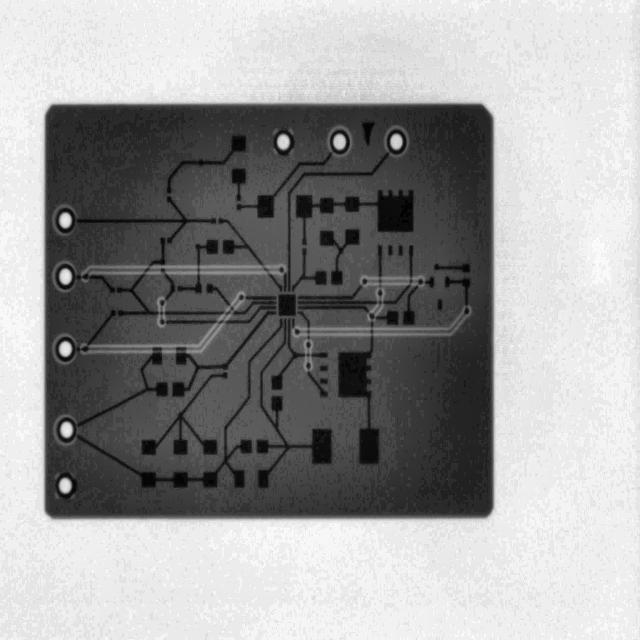Both: (272, 128, 297, 155), (53, 336, 76, 363), (54, 264, 76, 290), (387, 129, 407, 154), (56, 418, 76, 443), (56, 473, 75, 498), (56, 208, 75, 232), (332, 132, 348, 153)
L1: (75, 294, 350, 551), (240, 118, 390, 293), (297, 306, 399, 464), (151, 292, 289, 402), (255, 318, 333, 487), (74, 342, 189, 456), (117, 236, 277, 316), (72, 187, 219, 263), (234, 142, 342, 233), (293, 181, 419, 246), (204, 214, 285, 306), (141, 372, 228, 456), (245, 318, 330, 403), (297, 245, 414, 305), (157, 130, 253, 195), (176, 232, 223, 300), (296, 274, 371, 316), (394, 268, 439, 329), (71, 308, 122, 358), (158, 306, 277, 326), (320, 229, 361, 285), (292, 248, 327, 292), (301, 362, 331, 400), (443, 275, 471, 314), (74, 275, 114, 293), (160, 267, 175, 306), (298, 311, 313, 349), (361, 120, 378, 146), (232, 168, 245, 201), (278, 294, 296, 316), (238, 294, 277, 303), (434, 263, 471, 272), (378, 246, 383, 296), (279, 266, 288, 293), (289, 318, 301, 336), (437, 298, 443, 310), (388, 245, 393, 256), (398, 245, 403, 256), (320, 365, 328, 371), (320, 379, 328, 384)
L2: (80, 290, 256, 387), (294, 307, 470, 336), (82, 262, 285, 280), (368, 288, 386, 321), (361, 277, 424, 286), (156, 297, 167, 328), (306, 342, 311, 369)
